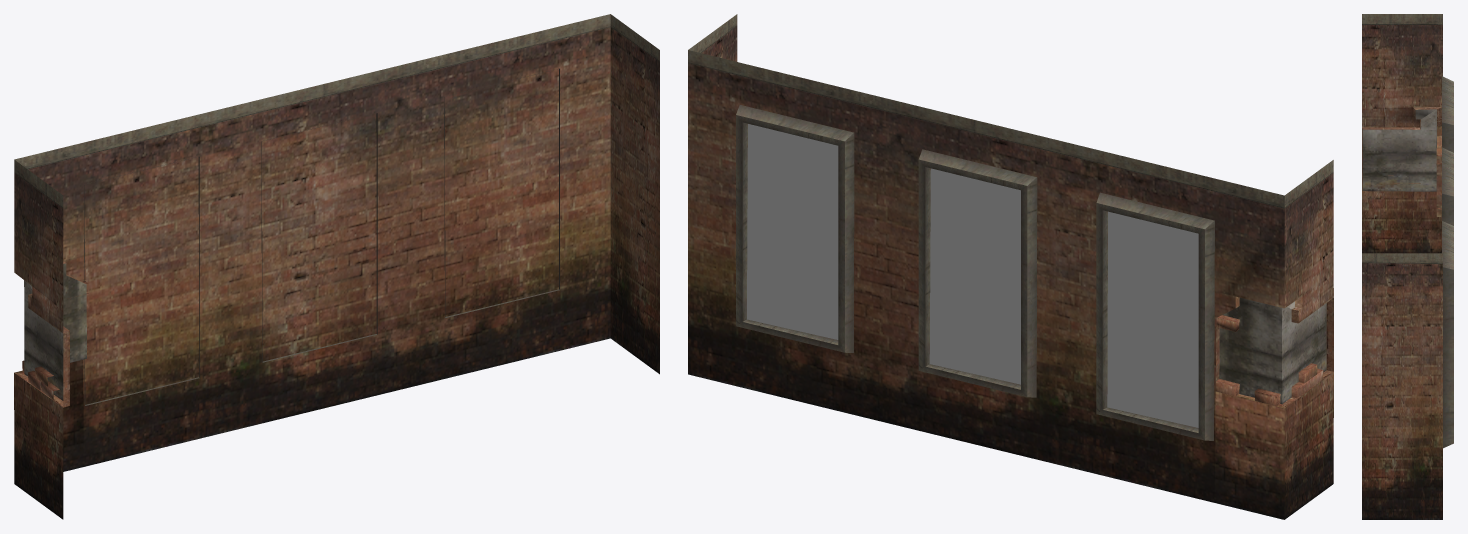
The model's file is Store_front_6_B.fbx.
The picture shows the model from 3 angles, left to right: view 1: azimuth 30°, elevation 25°; view 2: azimuth 150°, elevation 25°; view 3: azimuth 270°, elevation 25°; orthographic projection. The views are drawn at different scales.
Parts seen in each view (by area): view 1: Store_front_6_B; view 2: Store_front_6_B; view 3: Store_front_6_B.
Boxes of the visible parts, box(x1,y1,x2,y2) form: Store_front_6_B: box(14, 14, 659, 519); Store_front_6_B: box(688, 14, 1333, 519); Store_front_6_B: box(1362, 14, 1453, 519).
Bounding box in the file's own units: 700 × 364 × 114.
